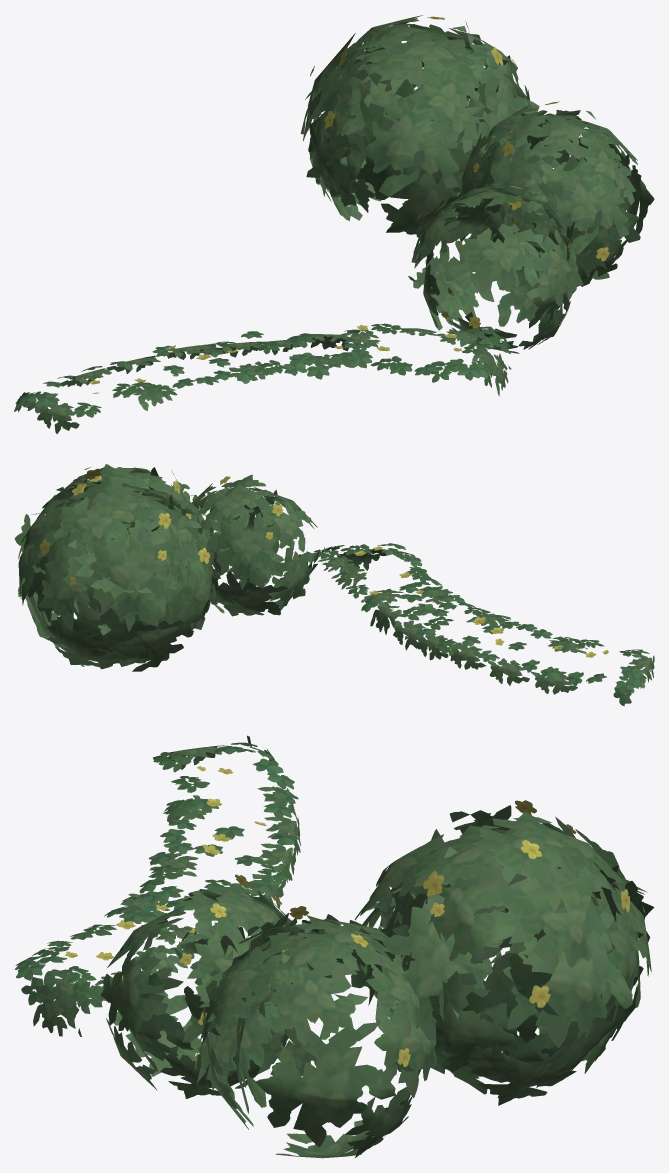
Rendered from pref_sm_beach_bk_pointmol_grassplant02_lv1.fbx.
3 views of the same model, one above another, from view 1: azimuth 30°, elevation 25°; view 2: azimuth 150°, elevation 25°; view 3: azimuth 270°, elevation 25° (orthographic). The views are drawn at different scales.
Visible parts, largest first — view 1: pref_sm_beach_bk_pointmol_grassplant02_lv1; view 2: pref_sm_beach_bk_pointmol_grassplant02_lv1; view 3: pref_sm_beach_bk_pointmol_grassplant02_lv1.
Boxes of the visible parts, x1=… form: pref_sm_beach_bk_pointmol_grassplant02_lv1: x1=14, y1=15, x2=654, y2=433; pref_sm_beach_bk_pointmol_grassplant02_lv1: x1=14, y1=464, x2=654, y2=706; pref_sm_beach_bk_pointmol_grassplant02_lv1: x1=15, y1=735, x2=654, y2=1158.
Size of the model in its own units: 15.35 by 5 by 10.27.
